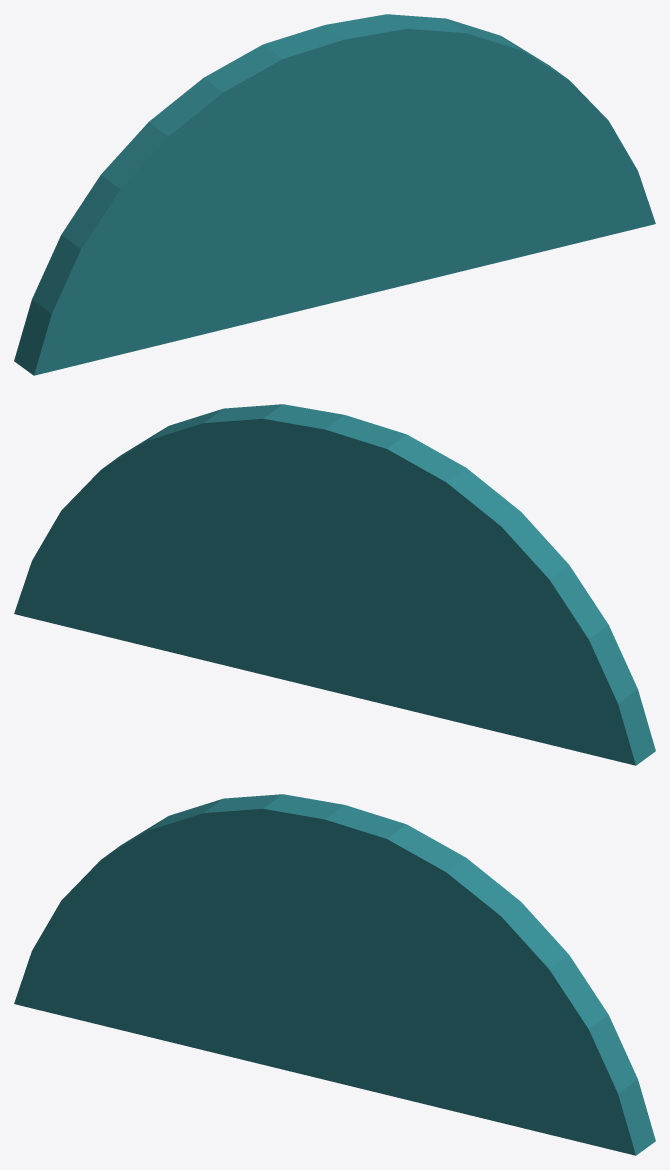
The model's file is hill-big.fbx.
3 views of the same model, one above another, from view 1: azimuth 30°, elevation 25°; view 2: azimuth 150°, elevation 25°; view 3: azimuth 330°, elevation 25° (orthographic).
Visible parts, largest first — view 1: Circle; view 2: Circle; view 3: Circle.
Boxes of the visible parts, left/top/right/bottom form: Circle: left=14, top=14, right=655, bottom=375; Circle: left=14, top=404, right=655, bottom=765; Circle: left=14, top=794, right=655, bottom=1155.
Size of the model in its own units: 180000 by 72000 by 10000.
